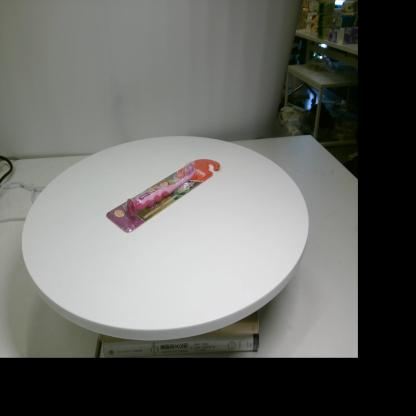Personal Hygiene: (106, 159, 221, 233)
